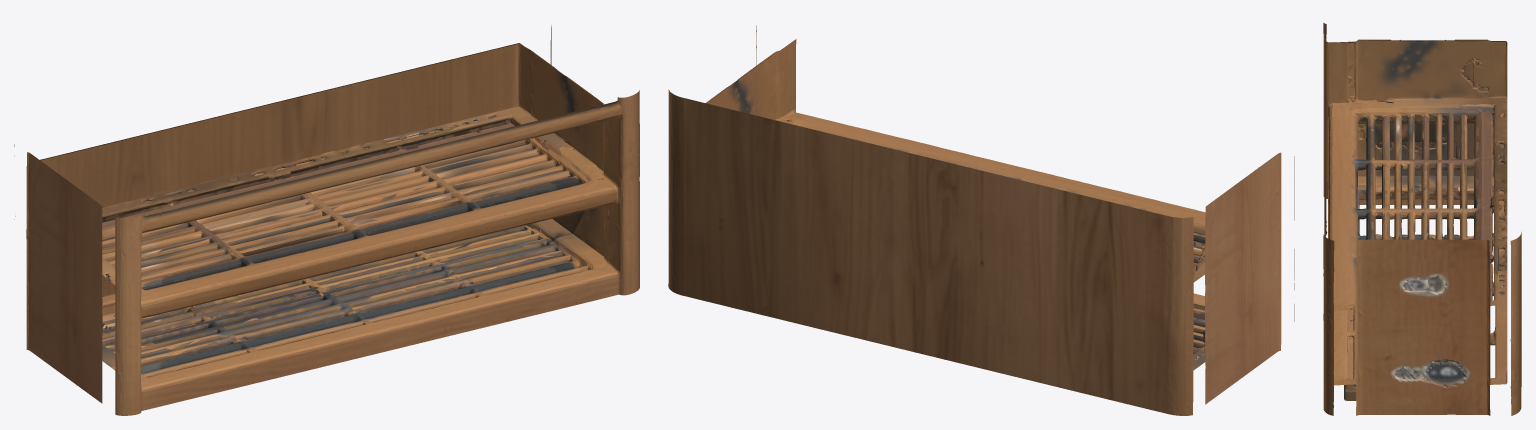
File: door_bottom.glb
3 renders of one model, left to right at view 1: azimuth 30°, elevation 25°; view 2: azimuth 150°, elevation 25°; view 3: azimuth 270°, elevation 25°, orthographic. The views are drawn at different scales.
Visible parts, largest first — view 1: source_surface_0; view 2: source_surface_0; view 3: source_surface_0.
Boxes of the visible parts, x1=… form: source_surface_0: x1=14, y1=25, x2=639, y2=415; source_surface_0: x1=668, y1=25, x2=1294, y2=415; source_surface_0: x1=1323, y1=22, x2=1521, y2=415.
Size of the model in its own units: 0.896 by 0.3229 by 0.3308.
1 material, 1 textured.
